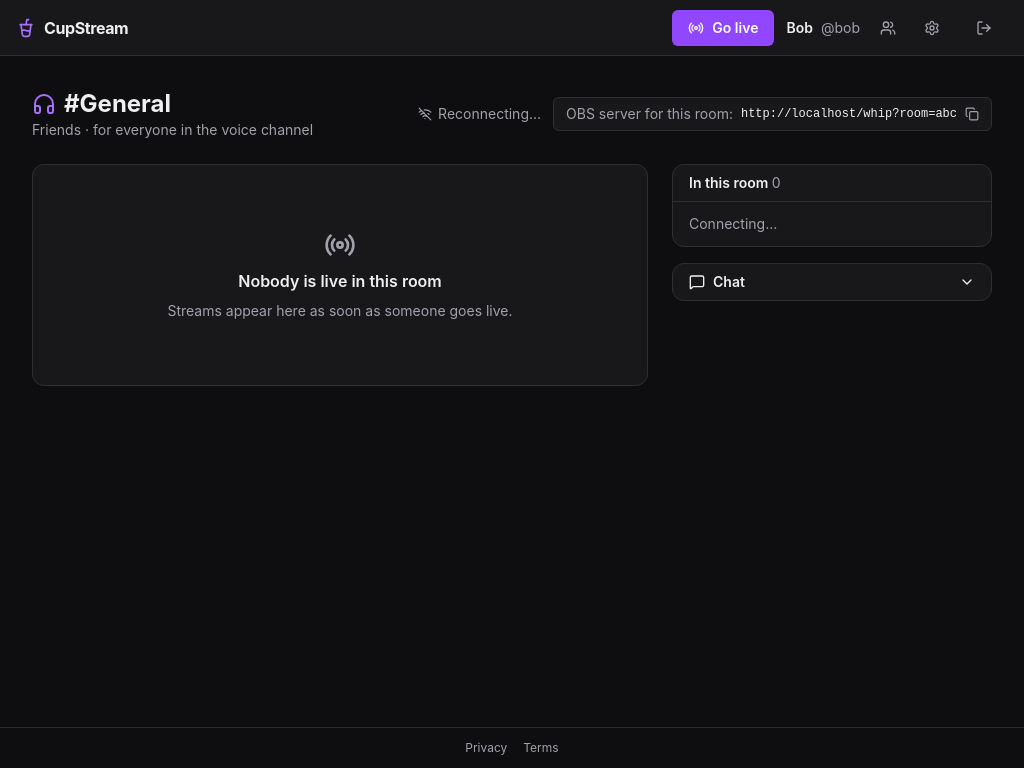
Test: the chat of a Discord room is collapsed until opened
Click the button "Chat". click: click(729, 282)
box: left=672, top=263, right=992, bottom=301
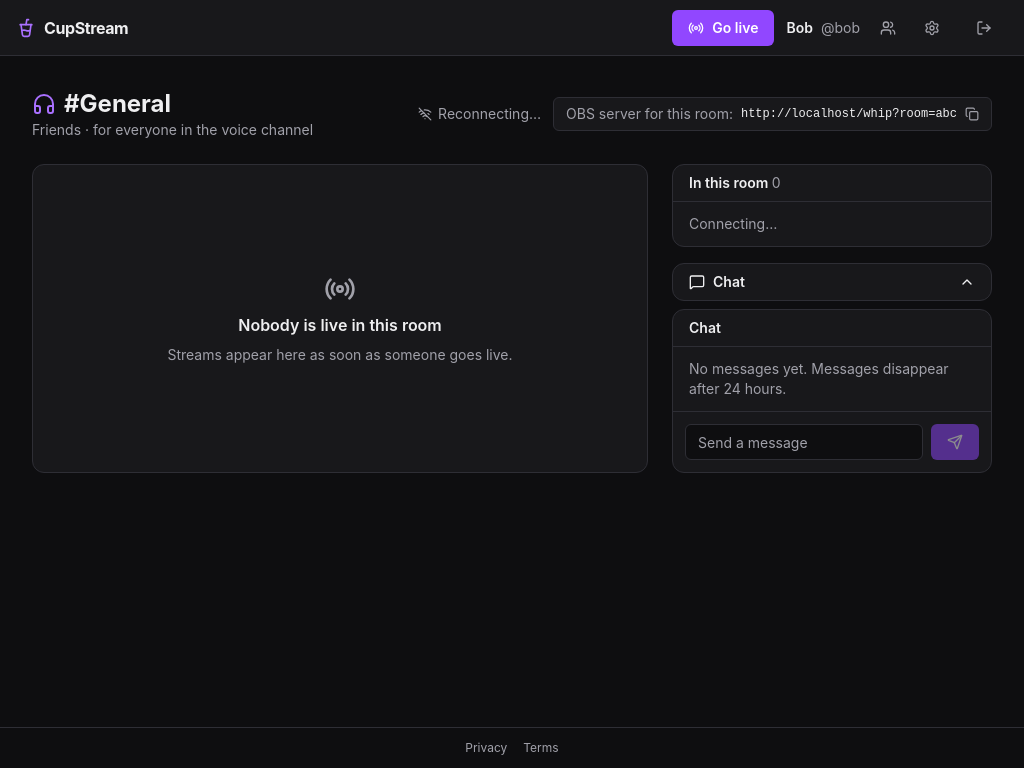
Expected: the element "Chat" is shown, left=672, top=309, right=992, bottom=473
